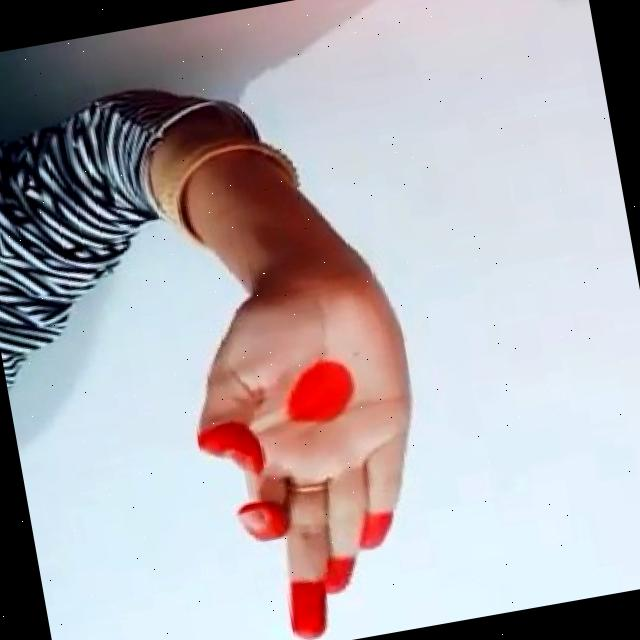Alapadma: (118, 257, 517, 640)
bangle: (120, 119, 322, 264)
